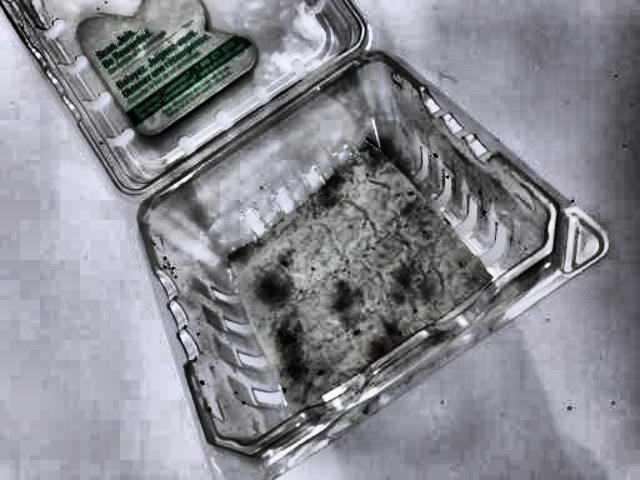Plastic: (1, 0, 602, 480)
